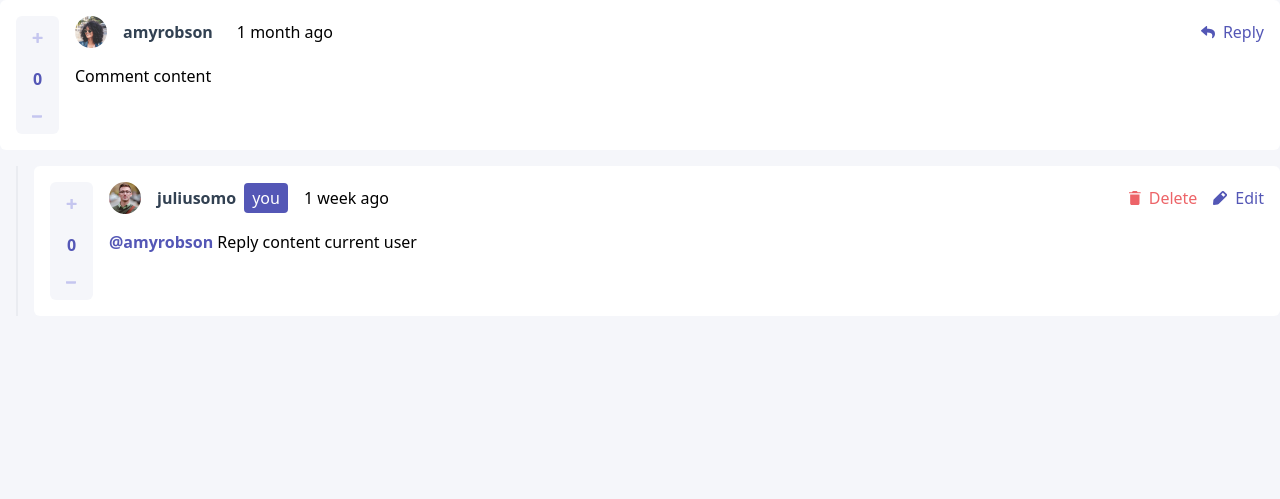
CommentList › should be able to reply the comment
The image size is (1280, 499).
Step 1. Click the button with aria-label "reply comment" → {"x": 1232, "y": 32}, box [1201,20,1264,44]
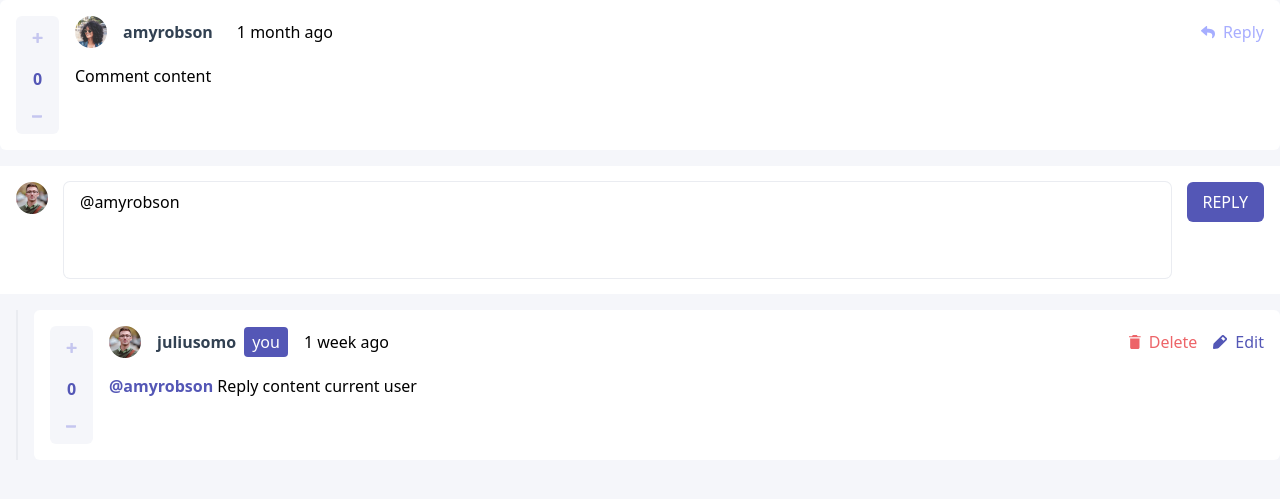
Step 2. Type "This is reply of comment content" into the text box with placeholder "Write your reply..." → {"x": 617, "y": 230}, box [64,182,1170,278]
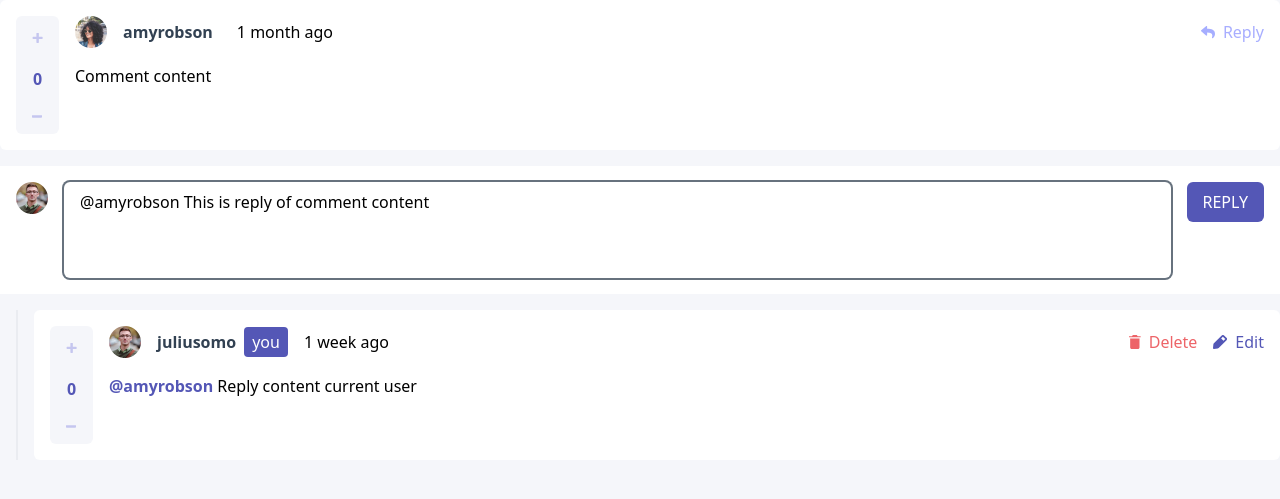
Step 3. Click the button with aria-label "submit reply" → {"x": 1225, "y": 202}, box [1186,182,1264,222]
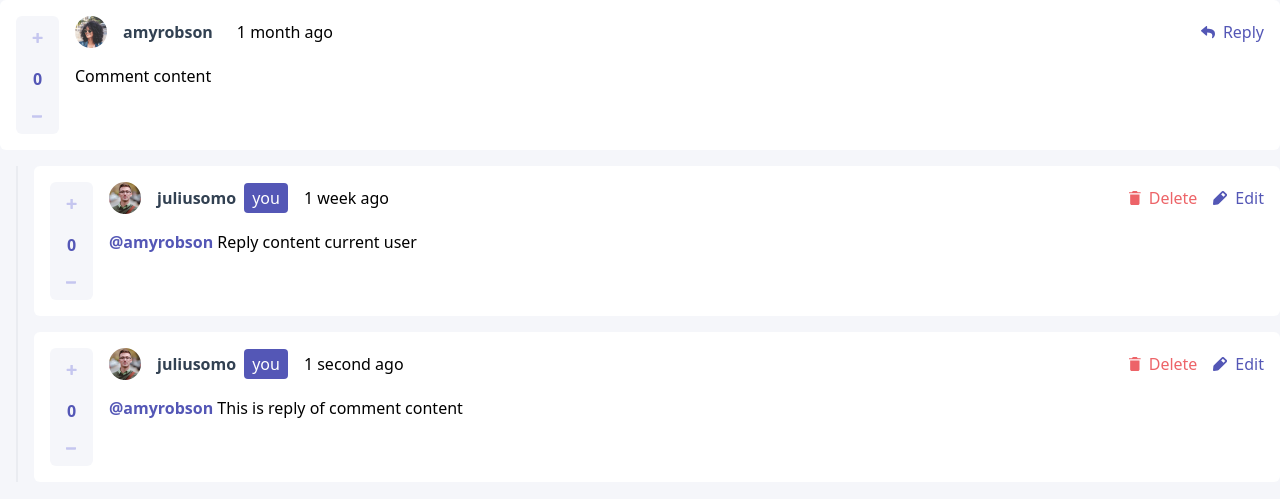
expect the text "amyrobson" is shown: met, box [123,21,213,43]
expect the text "This is reply of comment content" is shown: met, box [217,397,463,419]
